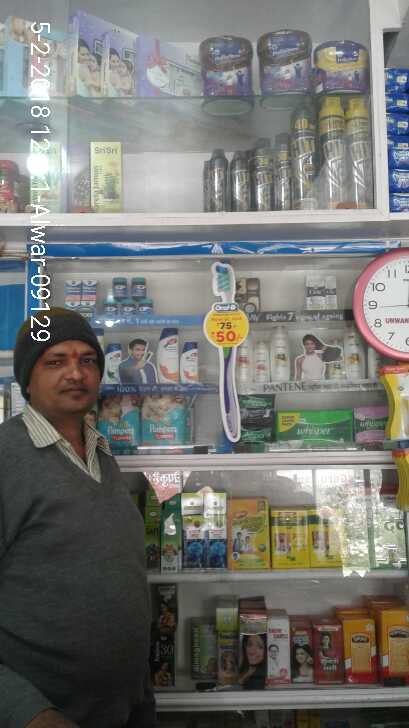vicks: (67, 273, 164, 320)
